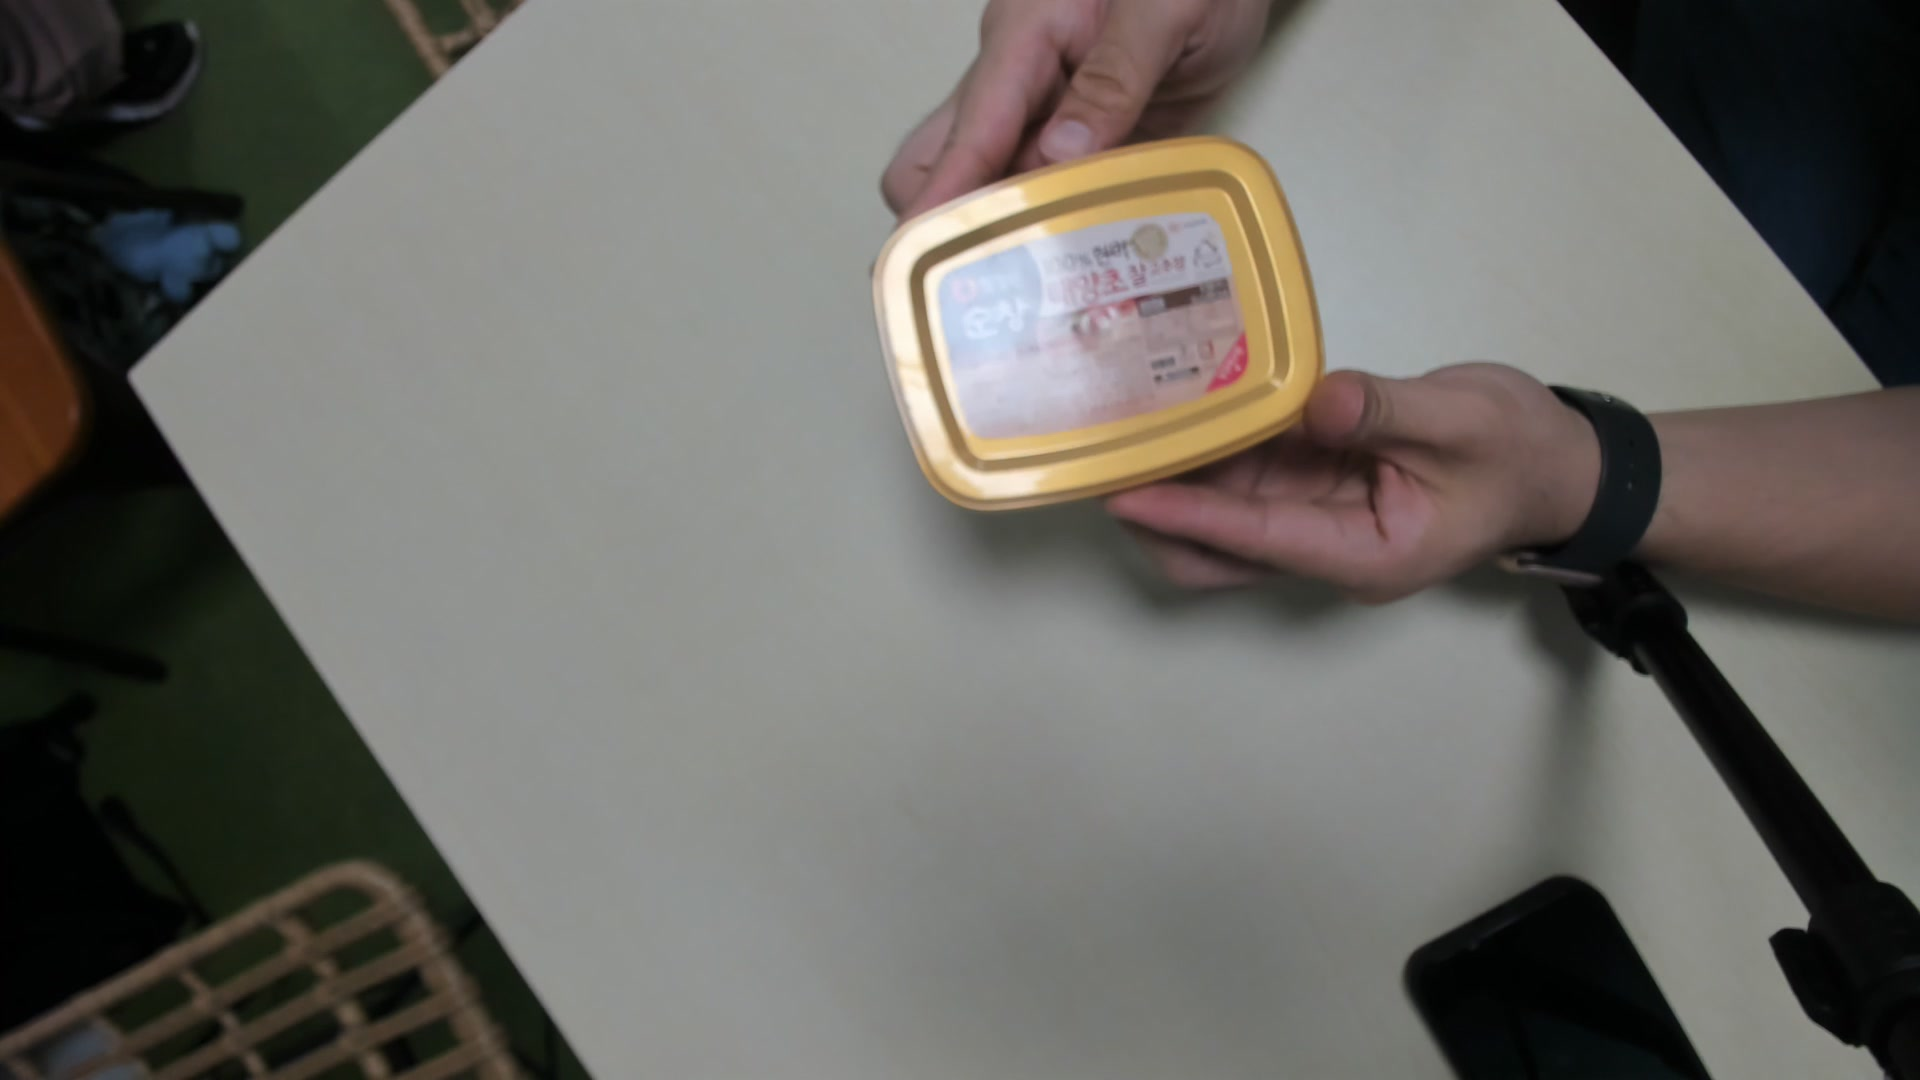OtherSauceDressing_200-299g_NonHalal_NonHealthy: (865, 138, 1315, 518)
